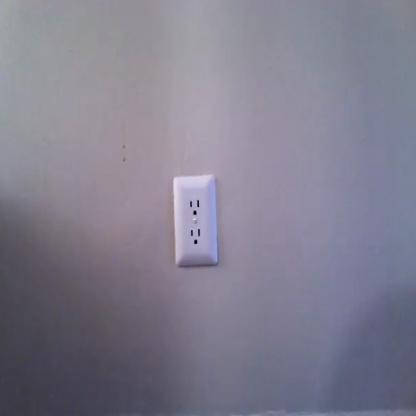OUTLET: (173, 176, 217, 264)
